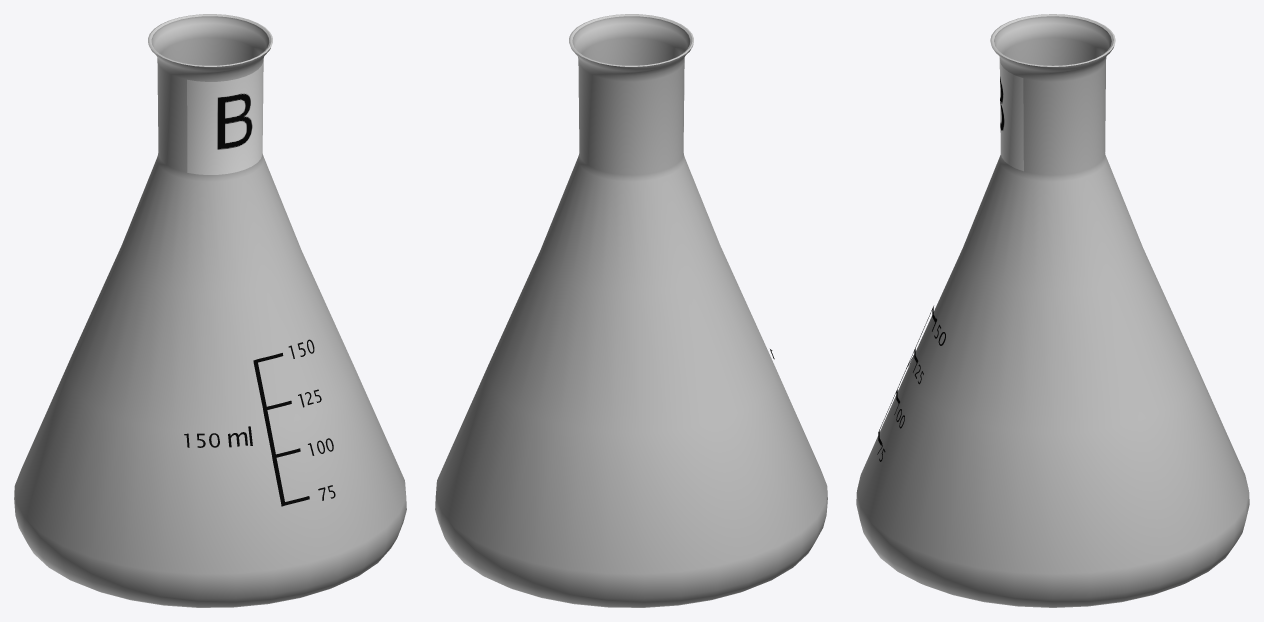
File: conical_flask_B.fbx
3 renders of one model, left to right at view 1: azimuth 30°, elevation 25°; view 2: azimuth 150°, elevation 25°; view 3: azimuth 270°, elevation 25°, orthographic.
Parts seen in each view (by area): view 1: conical beaker.001, sticker.001, Plane.001; view 2: conical beaker.001; view 3: conical beaker.001, sticker.001.
Part boxes in pixels (bbox=[...]): conical beaker.001: bbox=[14, 14, 406, 607]; sticker.001: bbox=[187, 61, 263, 174]; Plane.001: bbox=[253, 353, 309, 506]; conical beaker.001: bbox=[435, 14, 827, 607]; conical beaker.001: bbox=[856, 14, 1249, 607]; sticker.001: bbox=[999, 59, 1023, 171].
Bounding box in the file's own units: 12.72 × 17.6 × 12.72.
